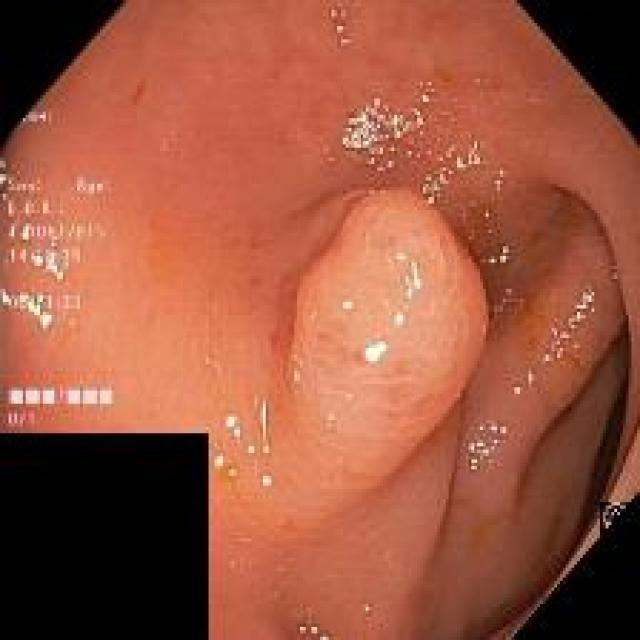Polyps: (289, 190, 488, 499)
